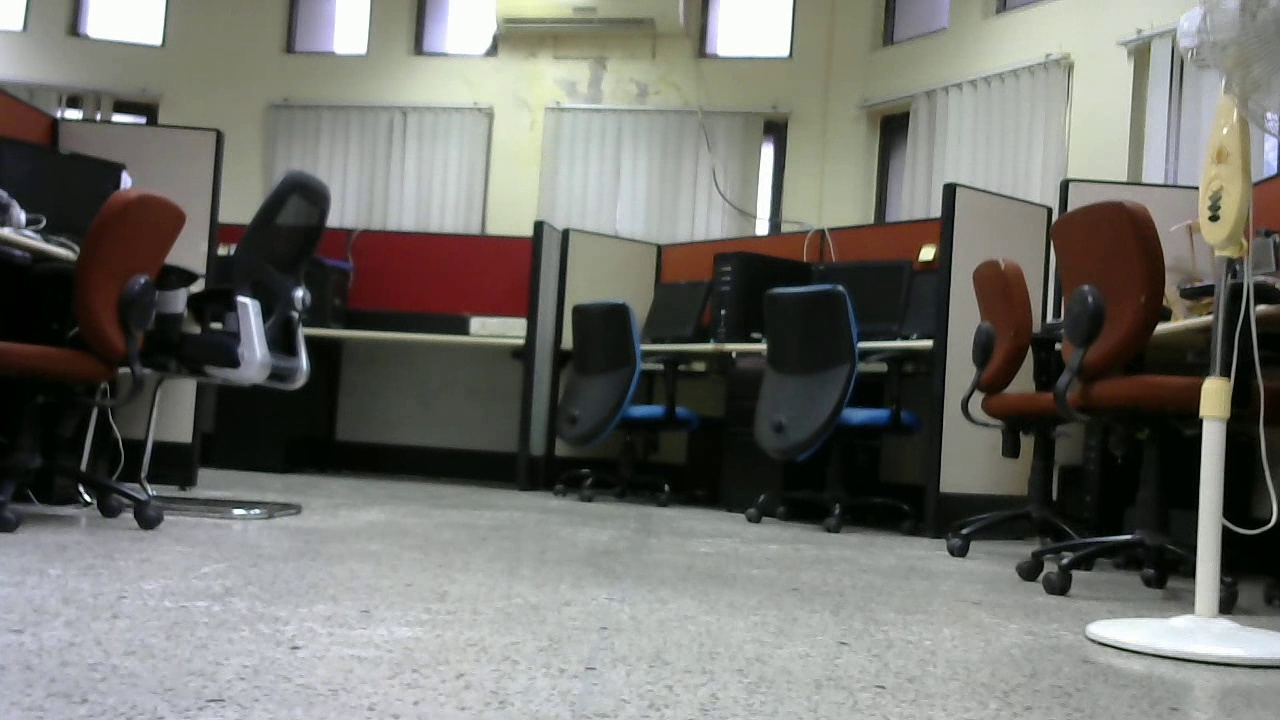chair: (1025, 202, 1273, 602), (4, 185, 194, 527), (166, 161, 341, 513), (948, 256, 1132, 569), (724, 286, 930, 538), (540, 302, 707, 512)
